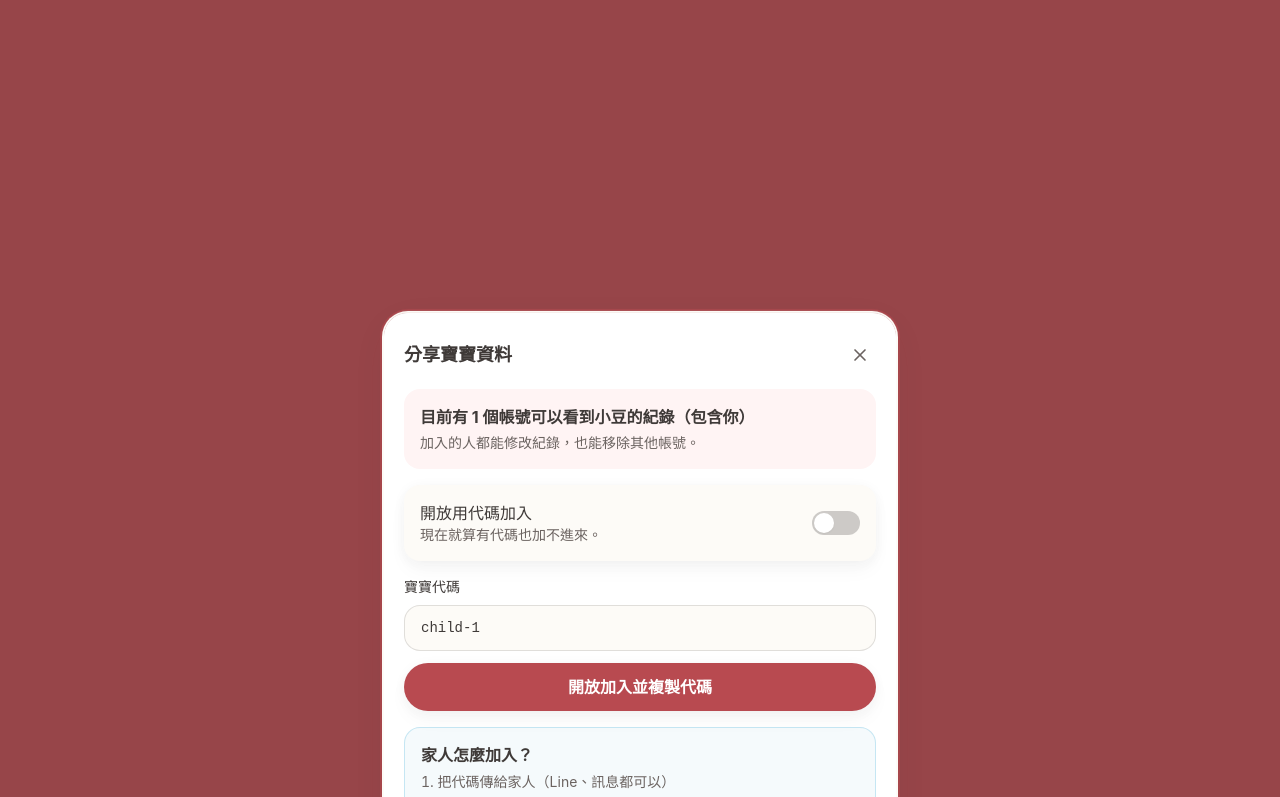
Test: 複製代碼 › 開放加入失敗就不複製，並且說代碼還不能用
This screenshot has width=1280, height=797.
Click the button "開放加入並複製代碼" at (640, 687), box [404,663,876,711]
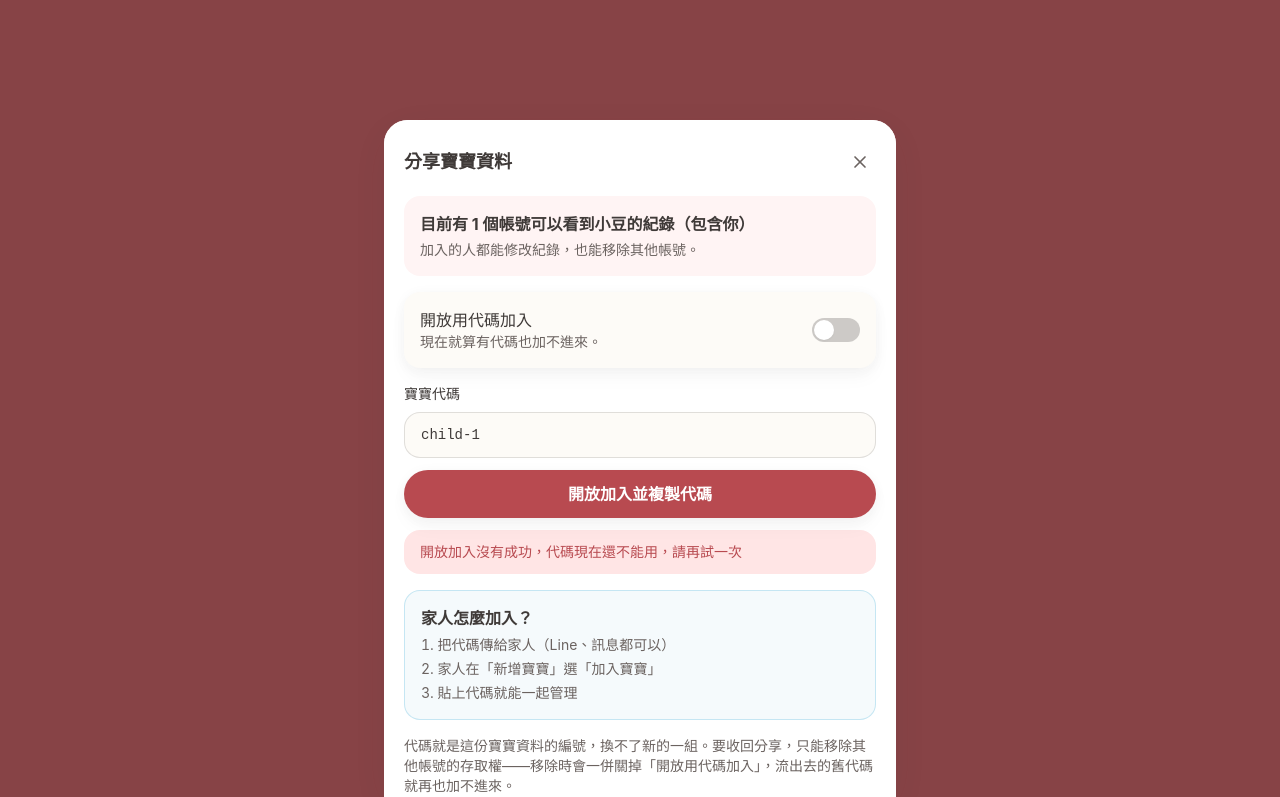
Expected: the message shows "代碼現在還不能用", [420,543,742,560]
